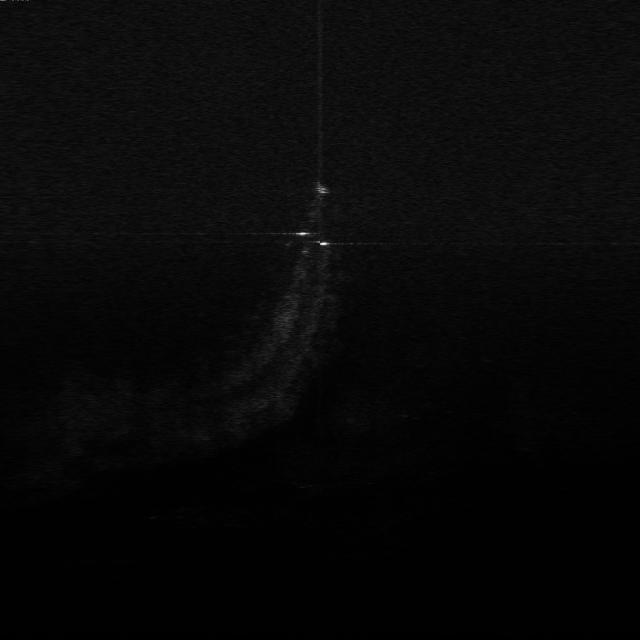rov: (310, 177, 332, 199)
